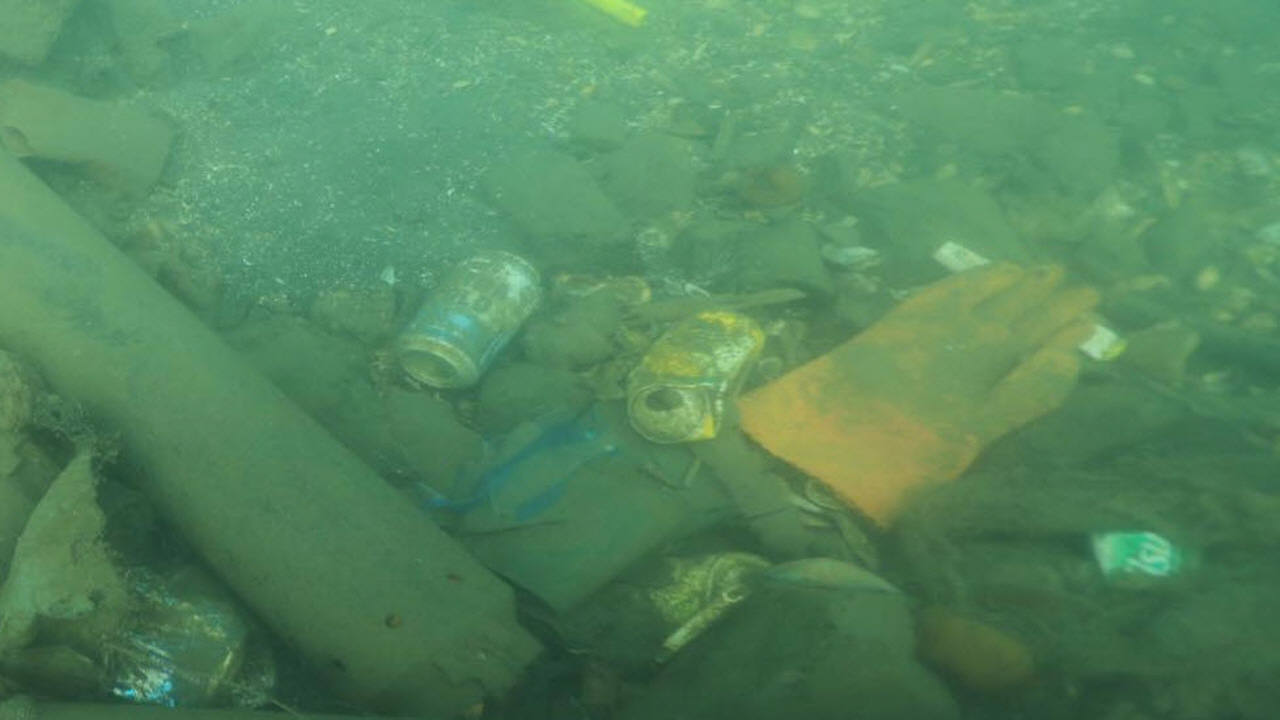eel fish trap: (0, 139, 543, 720)
